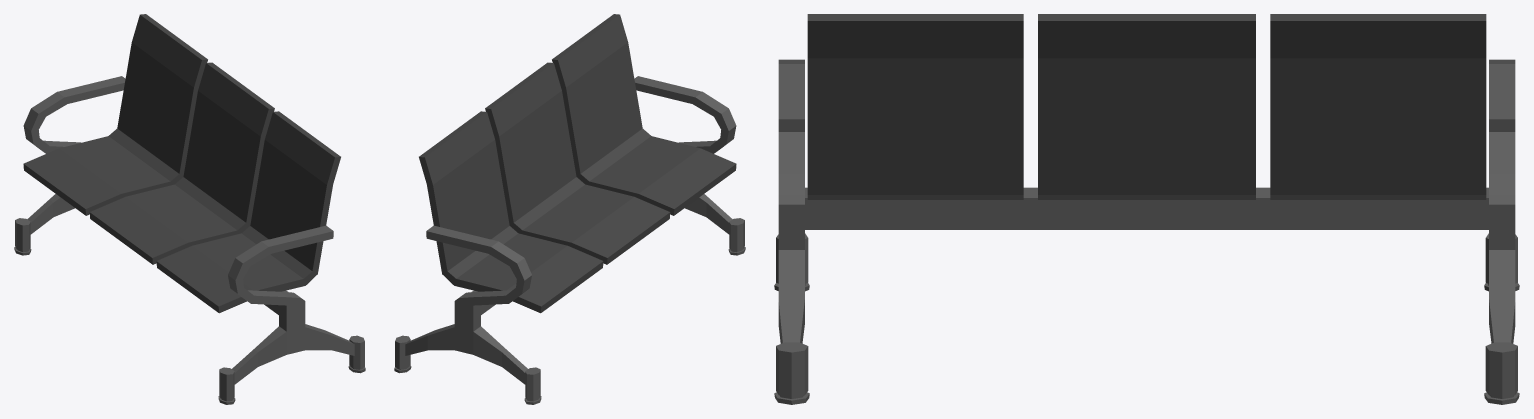
The model's file is Benchchair.fbx.
3 renders of one model, left to right at view 1: azimuth 30°, elevation 25°; view 2: azimuth 150°, elevation 25°; view 3: azimuth 270°, elevation 25°, orthographic. The views are drawn at different scales.
Parts seen in each view (by area): view 1: Benchchair_LOD0; view 2: Benchchair_LOD0; view 3: Benchchair_LOD0.
Boxes of the visible parts, bbox=[...] form: Benchchair_LOD0: bbox=[14, 14, 365, 404]; Benchchair_LOD0: bbox=[394, 14, 745, 404]; Benchchair_LOD0: bbox=[774, 14, 1519, 404].
Size of what is drawn, in the model's own units: 161 by 226 by 413.
Materials: 1 (1 with a texture image).
